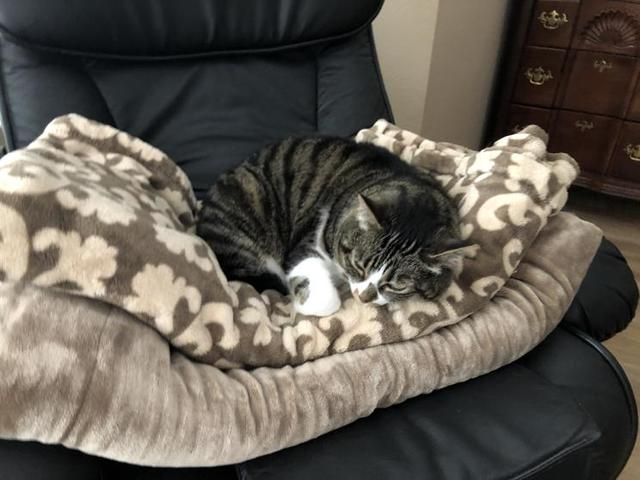playdoh: (198, 134, 474, 315)
